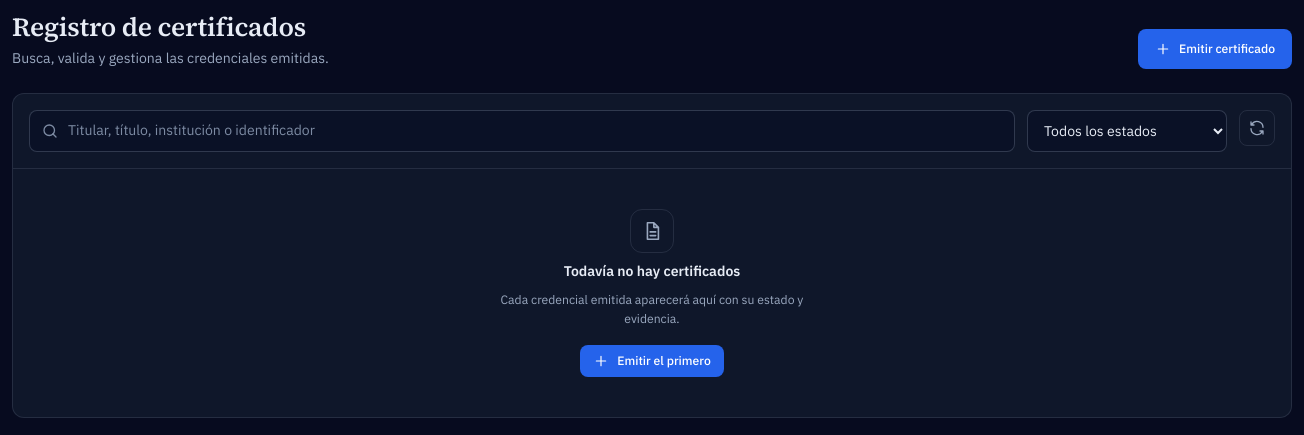
Test case: certificate management › distinguishes an empty registry from a search without results
The image size is (1304, 435).
Expected: the text "Todavía no hay certificados" is shown, x1=564 y1=261 x2=740 y2=283
Select "Revocadas" in the dropdown named "Filtrar por estado" at (1127, 131), box x1=1027 y1=110 x2=1227 y2=152
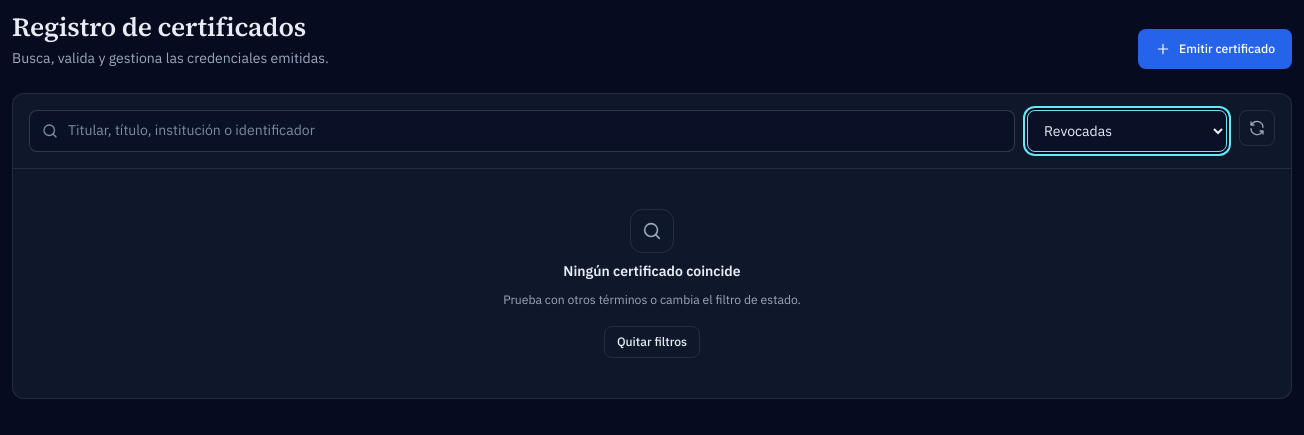
Result: the text "Ningún certificado coincide" is shown at x1=563 y1=261 x2=741 y2=283
